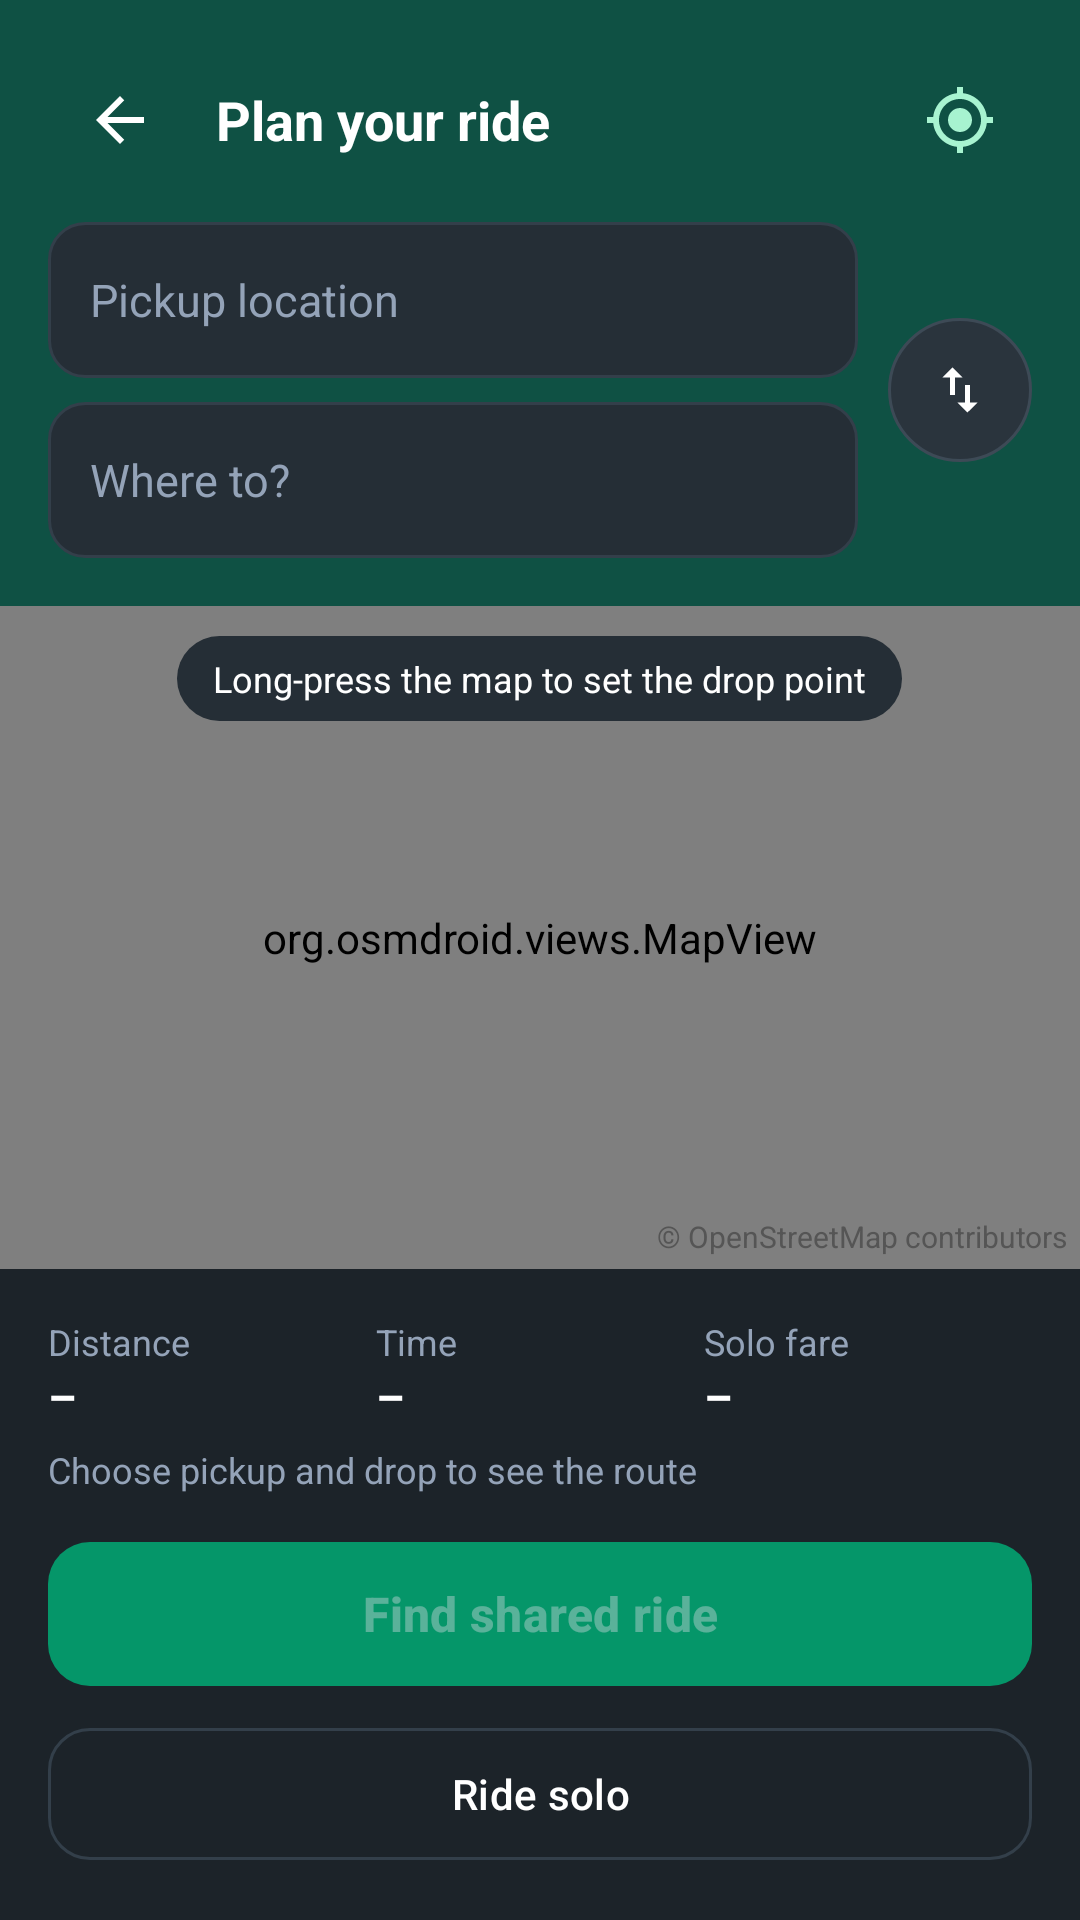

Where to tap for icons on this 1080px x 1920px app screen, as (x=x, y=y):
Back: (x=120, y=120)
Swap: (x=960, y=390)
Use my location: (x=960, y=120)
